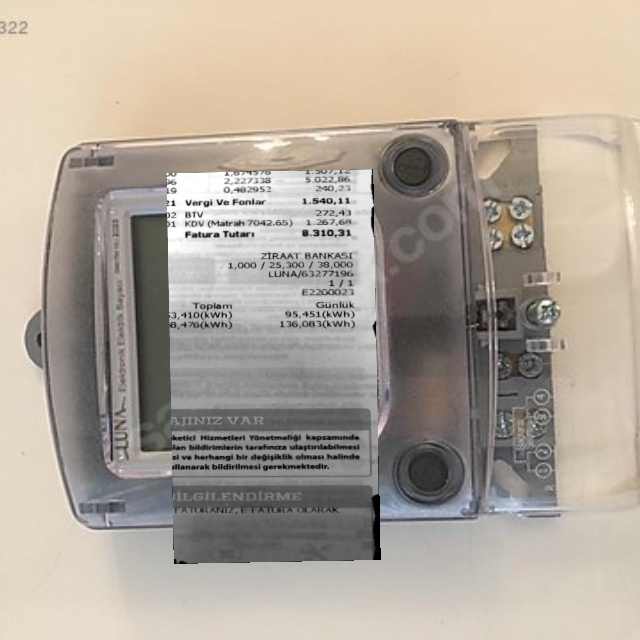electricity-bill: (166, 168, 381, 564)
